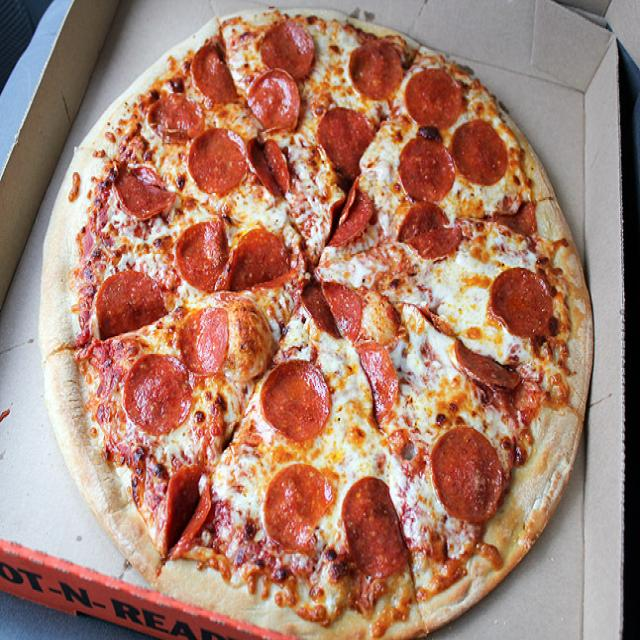pepperoni: (341, 472, 409, 579), (433, 424, 503, 523), (261, 357, 331, 448), (261, 462, 328, 550), (160, 460, 220, 553), (126, 353, 192, 432), (490, 263, 553, 345), (96, 270, 172, 335), (449, 116, 512, 194), (301, 274, 369, 346), (256, 18, 326, 84), (231, 228, 299, 295), (452, 330, 523, 393), (404, 62, 466, 133), (318, 103, 372, 183), (112, 155, 177, 219), (185, 121, 245, 190), (399, 130, 454, 205), (401, 196, 460, 265), (346, 34, 404, 104), (175, 220, 230, 293), (176, 301, 228, 378), (244, 67, 301, 137), (358, 336, 406, 419), (192, 41, 239, 106), (146, 96, 206, 144), (331, 186, 373, 245)
pizza: (39, 10, 593, 640)
